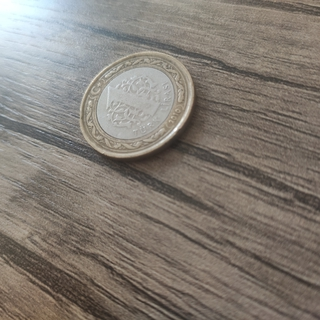1TL: (77, 48, 198, 161)
